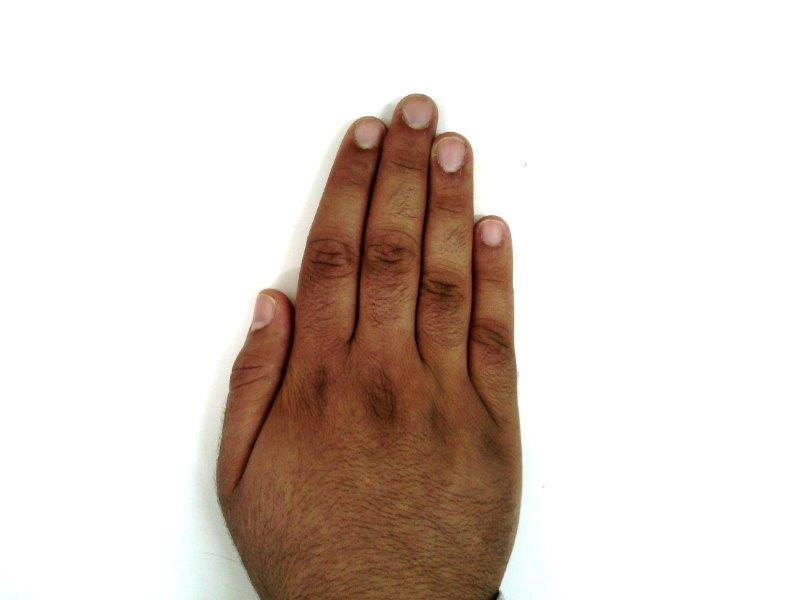hand: (216, 92, 520, 584)
